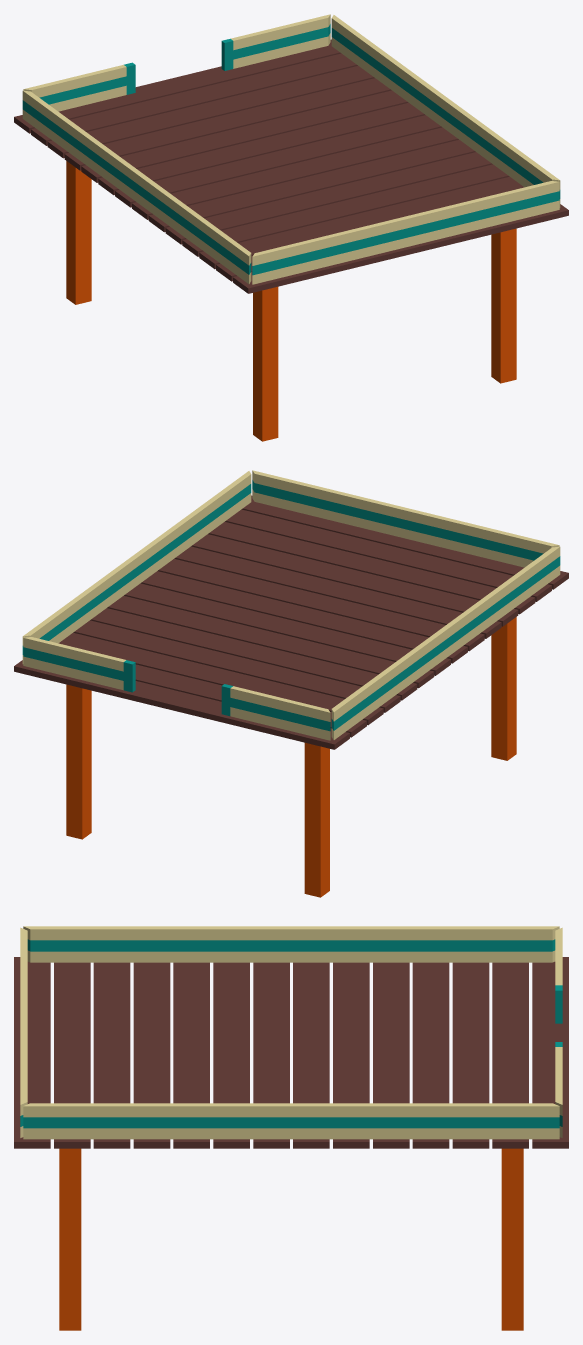
Rendered from GEO_platform_rectangle_large.fbx.
The picture shows the model from 3 angles, top to bottom: view 1: azimuth 30°, elevation 25°; view 2: azimuth 150°, elevation 25°; view 3: azimuth 270°, elevation 25°; orthographic projection. The views are drawn at different scales.
Visible parts, largest first — view 1: GEO_hut_platform, GEO_hut_platform_fence, GEO_hut_pillars; view 2: GEO_hut_platform, GEO_hut_platform_fence, GEO_hut_pillars; view 3: GEO_hut_platform, GEO_hut_platform_fence, GEO_hut_pillars.
Boxes of the visible parts, bbox=[...] form: GEO_hut_platform: bbox=[14, 39, 568, 293]; GEO_hut_platform_fence: bbox=[22, 14, 560, 284]; GEO_hut_pillars: bbox=[66, 161, 516, 441]; GEO_hut_platform: bbox=[14, 495, 568, 749]; GEO_hut_platform_fence: bbox=[22, 470, 560, 740]; GEO_hut_pillars: bbox=[66, 617, 516, 897]; GEO_hut_platform: bbox=[14, 957, 568, 1148]; GEO_hut_platform_fence: bbox=[20, 926, 562, 1139]; GEO_hut_pillars: bbox=[59, 1148, 523, 1330].
Size of the model in its own units: 770 by 467 by 974.
